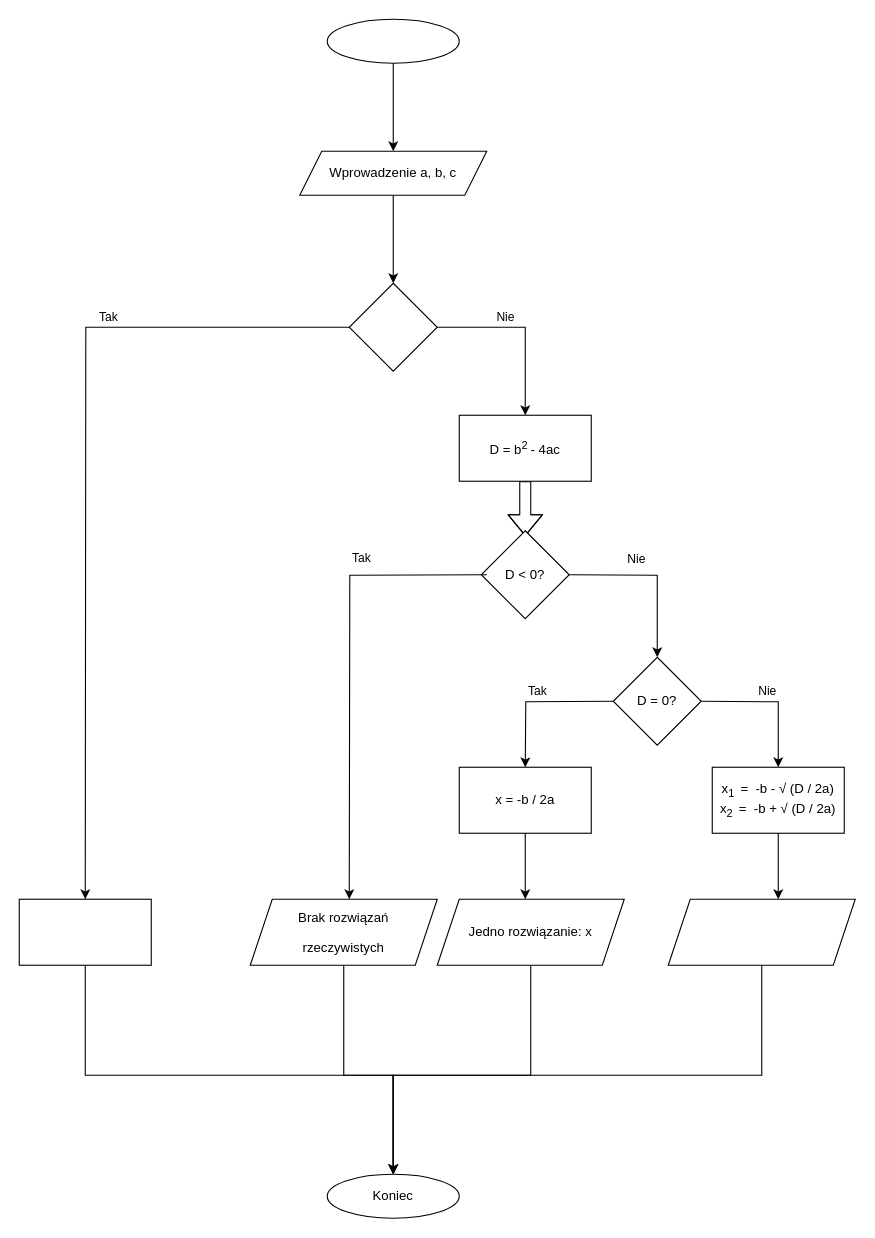
This 875x1238 diagram has some shape labels left out. Each missing label, with the centre of its shape:
a = 0?: [392,326]
Dwa rozwiązania: x 1 ,x 2: [761,931]
Początek: [392,40]
Rożwiązanie liniowe bx + c = 0: [84,931]
